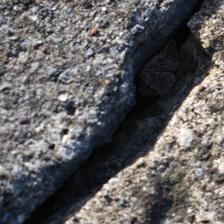Crack: (15, 3, 194, 218)
